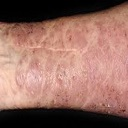Pemphigoid: (3, 25, 78, 100)
